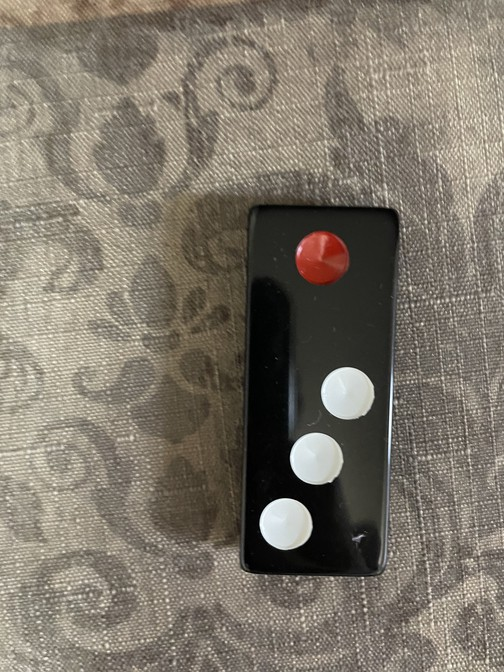goose: (241, 208, 401, 579)
